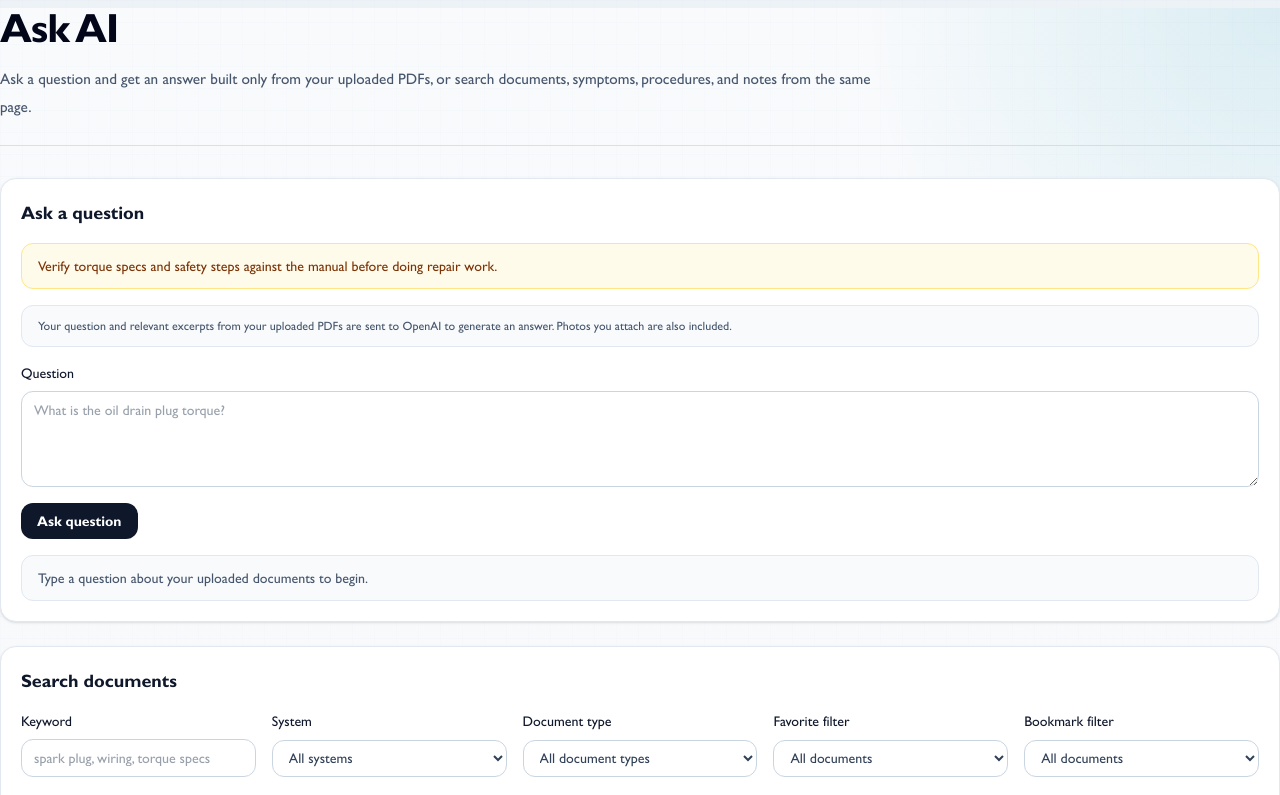
Test case: submitting a search shows a completed-search counter for the bounded page
Type "brake" into the field labelled "Keyword". click: [138, 758]
box: [21,739,256,777]
(page scrolled)
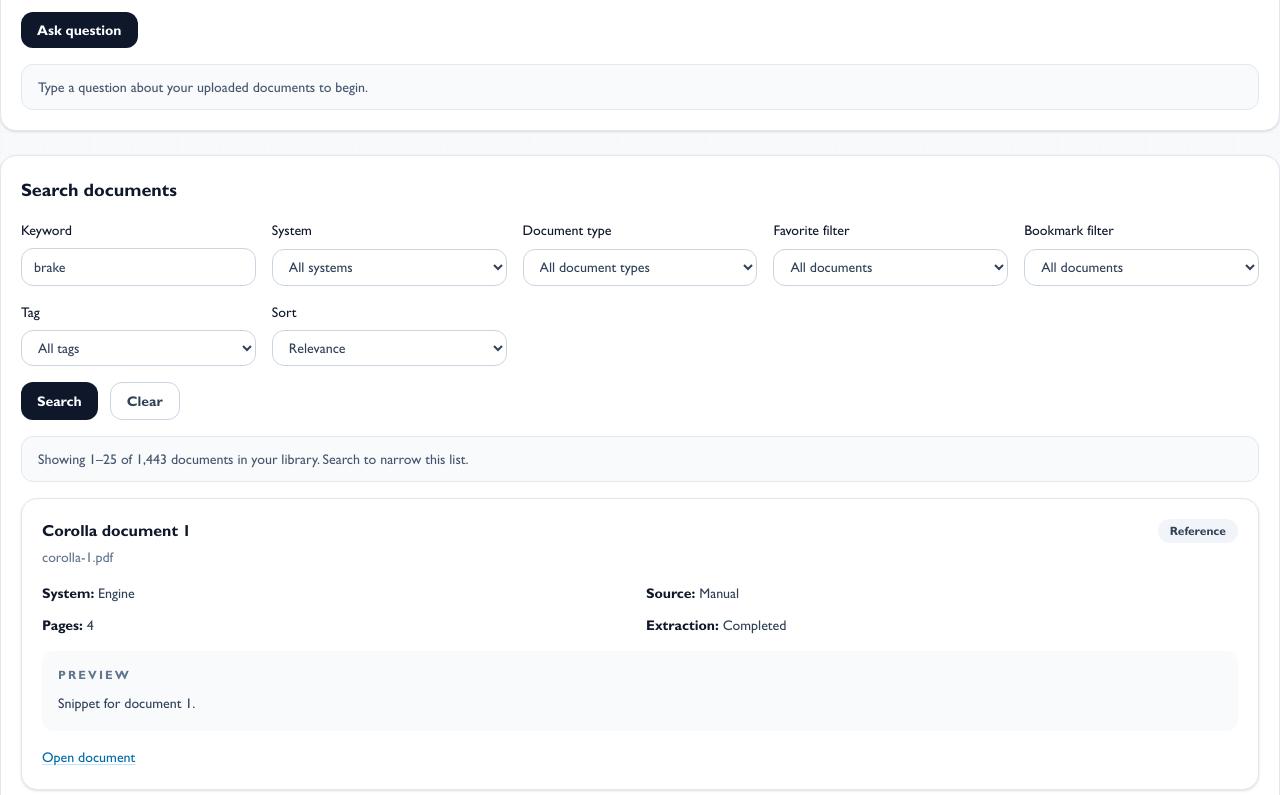
Click the button "Search". click: [59, 401]
box: [21,382,98,420]
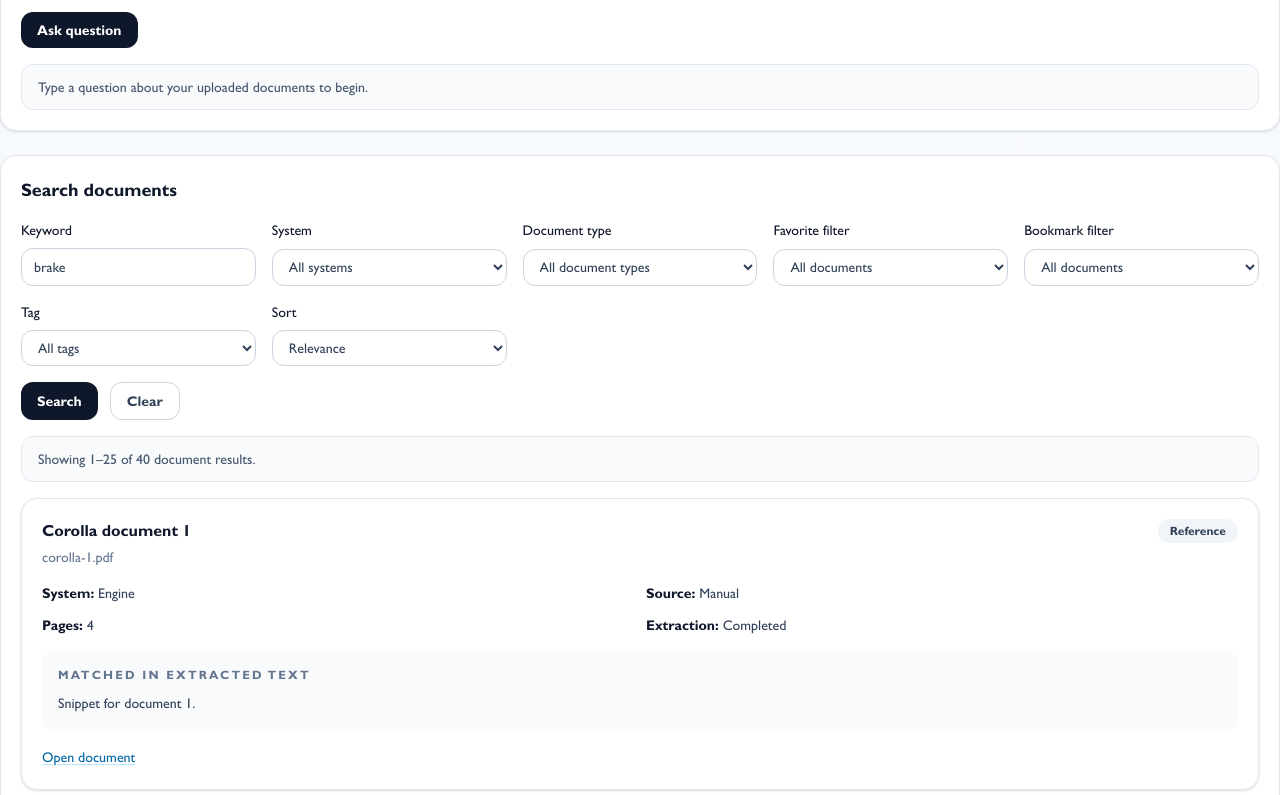
Expected: the text "Showing 1–25 of 40 document results." is shown, [21,436,1259,482]
